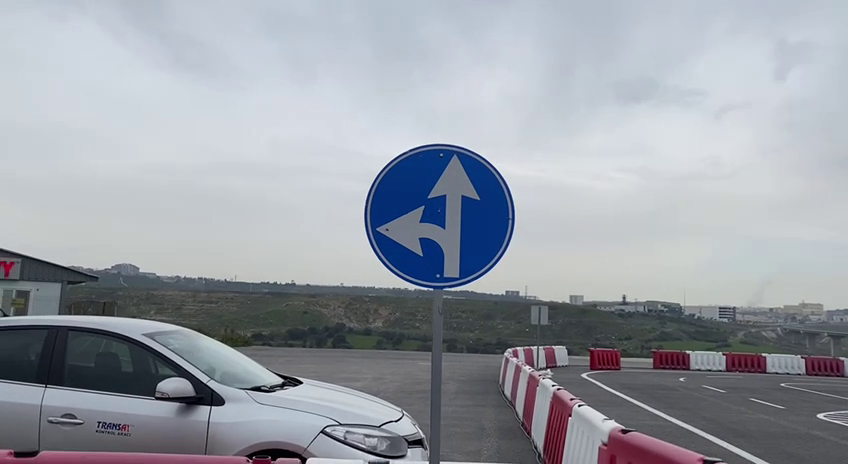forwardAndLeft: (360, 141, 518, 293)
